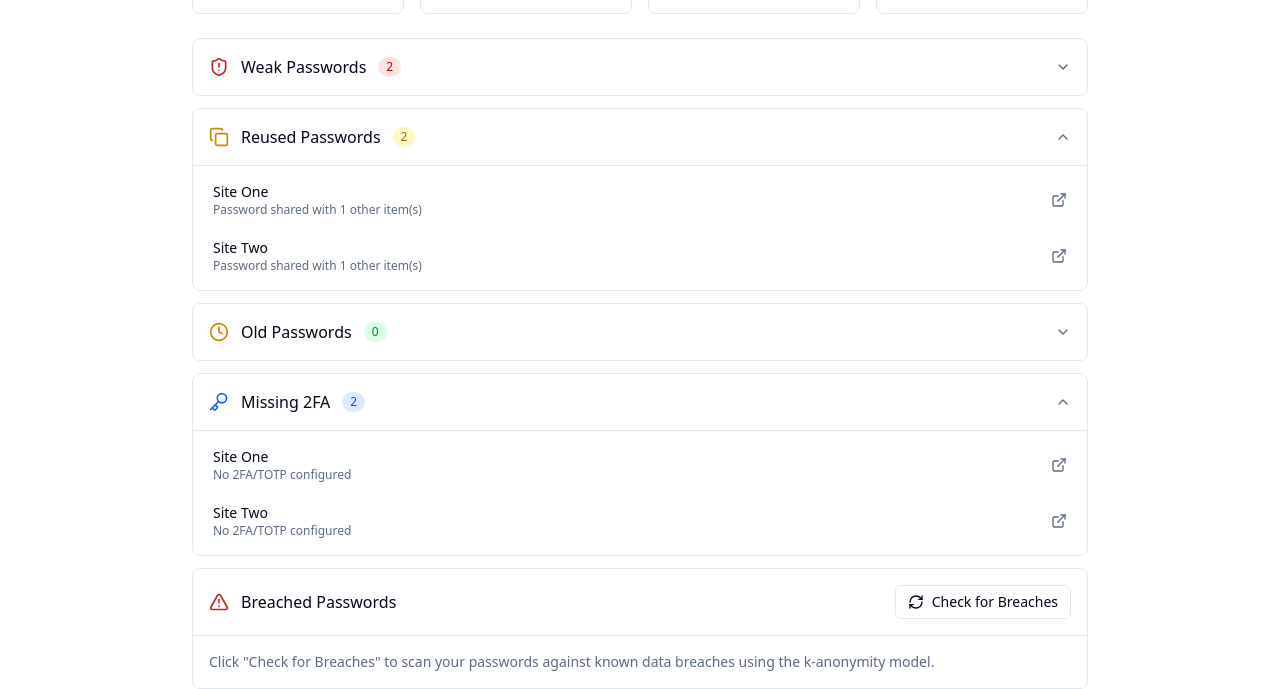
it: VaultHealthPage - health score › adds breached items as a 4th category once the breach check has run
The width and height of the screenshot is (1280, 689).
(page scrolled)
Click the button "Check for Breaches".
click(983, 602)  # box [895,585,1071,619]
(page scrolled)
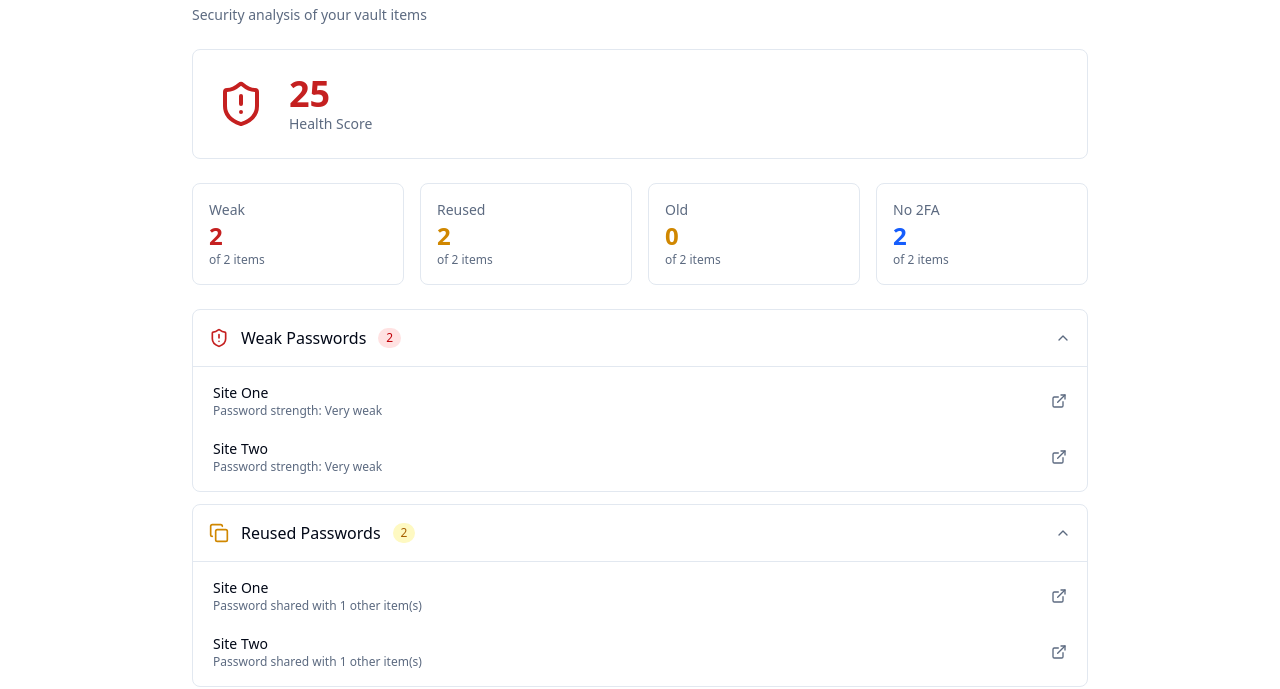
Expected: the text "25" is shown, [289,69,330,118]
